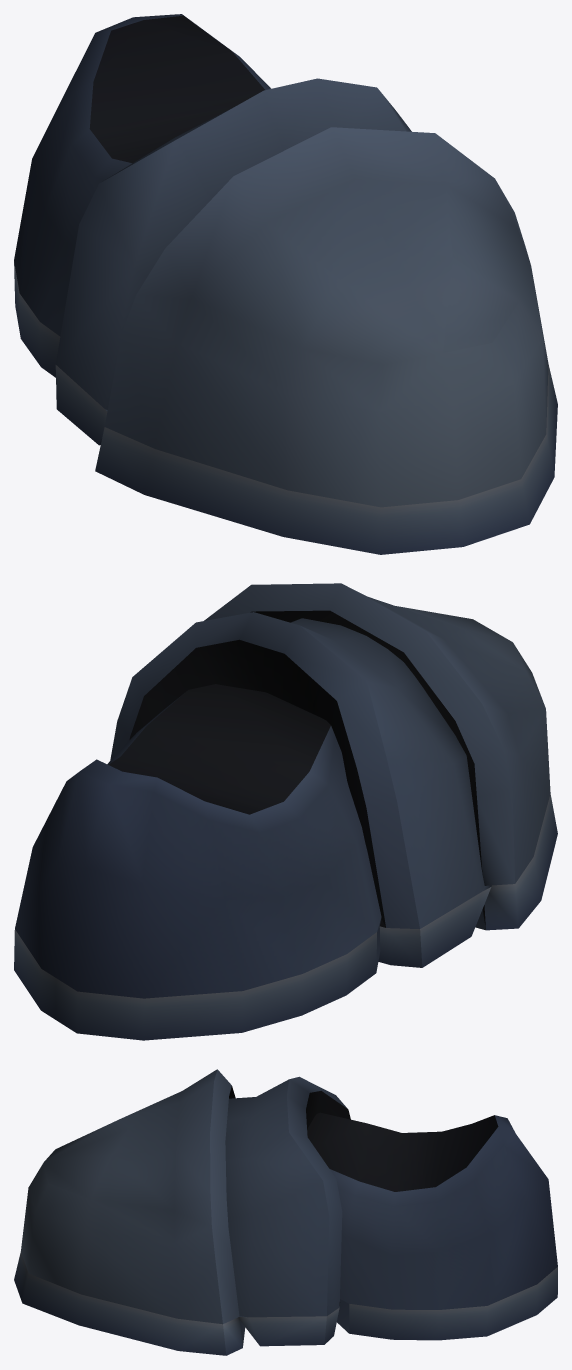
Rendered from Shoes_Armored_Shoes_R.gltf.
3 renders of one model, top to bottom at view 1: azimuth 30°, elevation 25°; view 2: azimuth 150°, elevation 25°; view 3: azimuth 270°, elevation 25°, orthographic. The views are drawn at different scales.
Visible parts, largest first — view 1: Shoes_Armored_Shoes_R; view 2: Shoes_Armored_Shoes_R; view 3: Shoes_Armored_Shoes_R.
Boxes of the visible parts, box(x1,y1,x2,y2) form: Shoes_Armored_Shoes_R: box(14, 14, 557, 554); Shoes_Armored_Shoes_R: box(14, 583, 557, 1040); Shoes_Armored_Shoes_R: box(14, 1069, 557, 1355).
Size of the model in its own units: 0.3402 by 0.234 by 0.56.
Materials: 1 (1 with a texture image).
